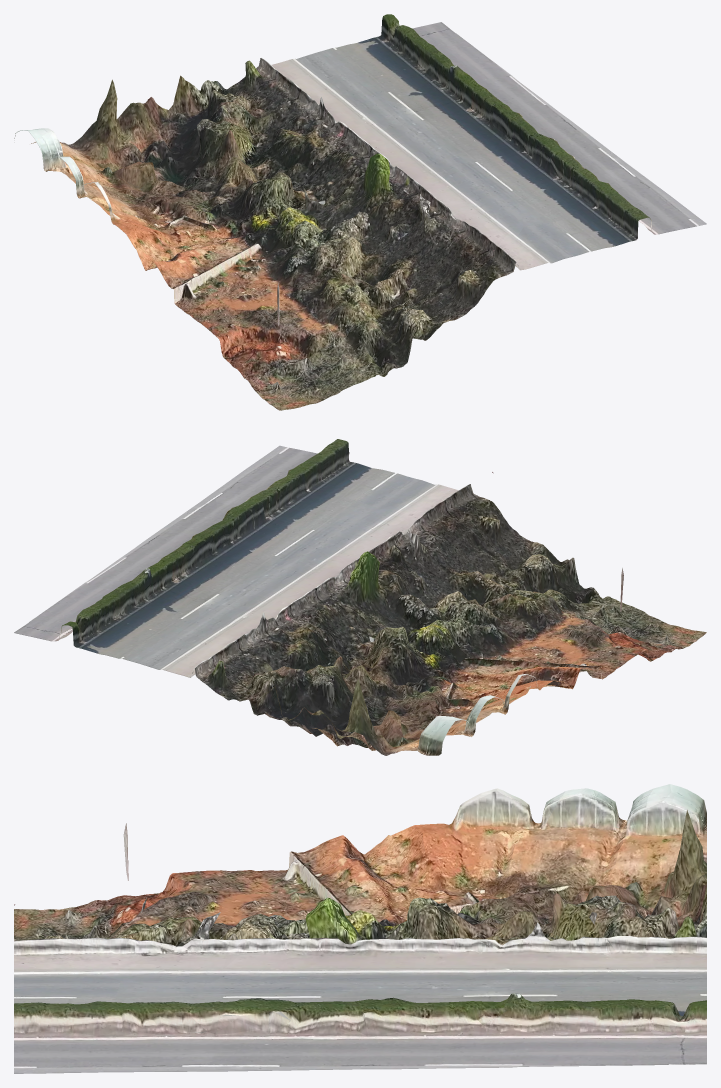
File: BlockBB_L20_209.glb
3 views of the same model, one above another, from view 1: azimuth 30°, elevation 25°; view 2: azimuth 150°, elevation 25°; view 3: azimuth 270°, elevation 25° (orthographic). The views are drawn at different scales.
Parts seen in each view (by area): view 1: rtc; view 2: rtc; view 3: rtc.
Boxes of the visible parts, left/top/right/bottom form: rtc: left=14, top=14, right=706, bottom=410; rtc: left=14, top=439, right=706, bottom=755; rtc: left=14, top=784, right=706, bottom=1073.
Bounding box in the file's own units: 39.79 × 10.88 × 42.82.
Materials: 4 (4 with a texture image).
